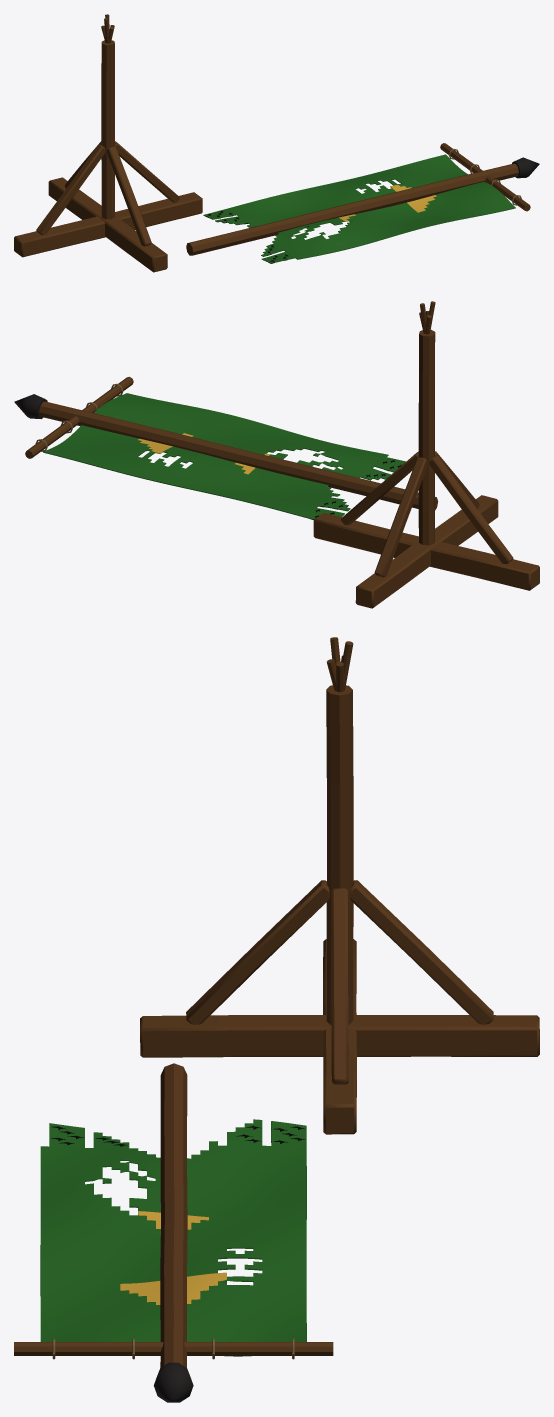
Rendered from banner_gruen_kaputt.glb.
3 views of the same model, one above another, from view 1: azimuth 30°, elevation 25°; view 2: azimuth 150°, elevation 25°; view 3: azimuth 270°, elevation 25° (orthographic). The views are drawn at different scales.
Visible parts, largest first — view 1: banner_gruen_kaputt; view 2: banner_gruen_kaputt; view 3: banner_gruen_kaputt.
Boxes of the visible parts, x1,y1,x2,y2 form: banner_gruen_kaputt: (14,14,539,272); banner_gruen_kaputt: (14,301,539,608); banner_gruen_kaputt: (14,637,539,1402).
Size of the model in its own units: 3.16 by 1.38 by 1.58.
